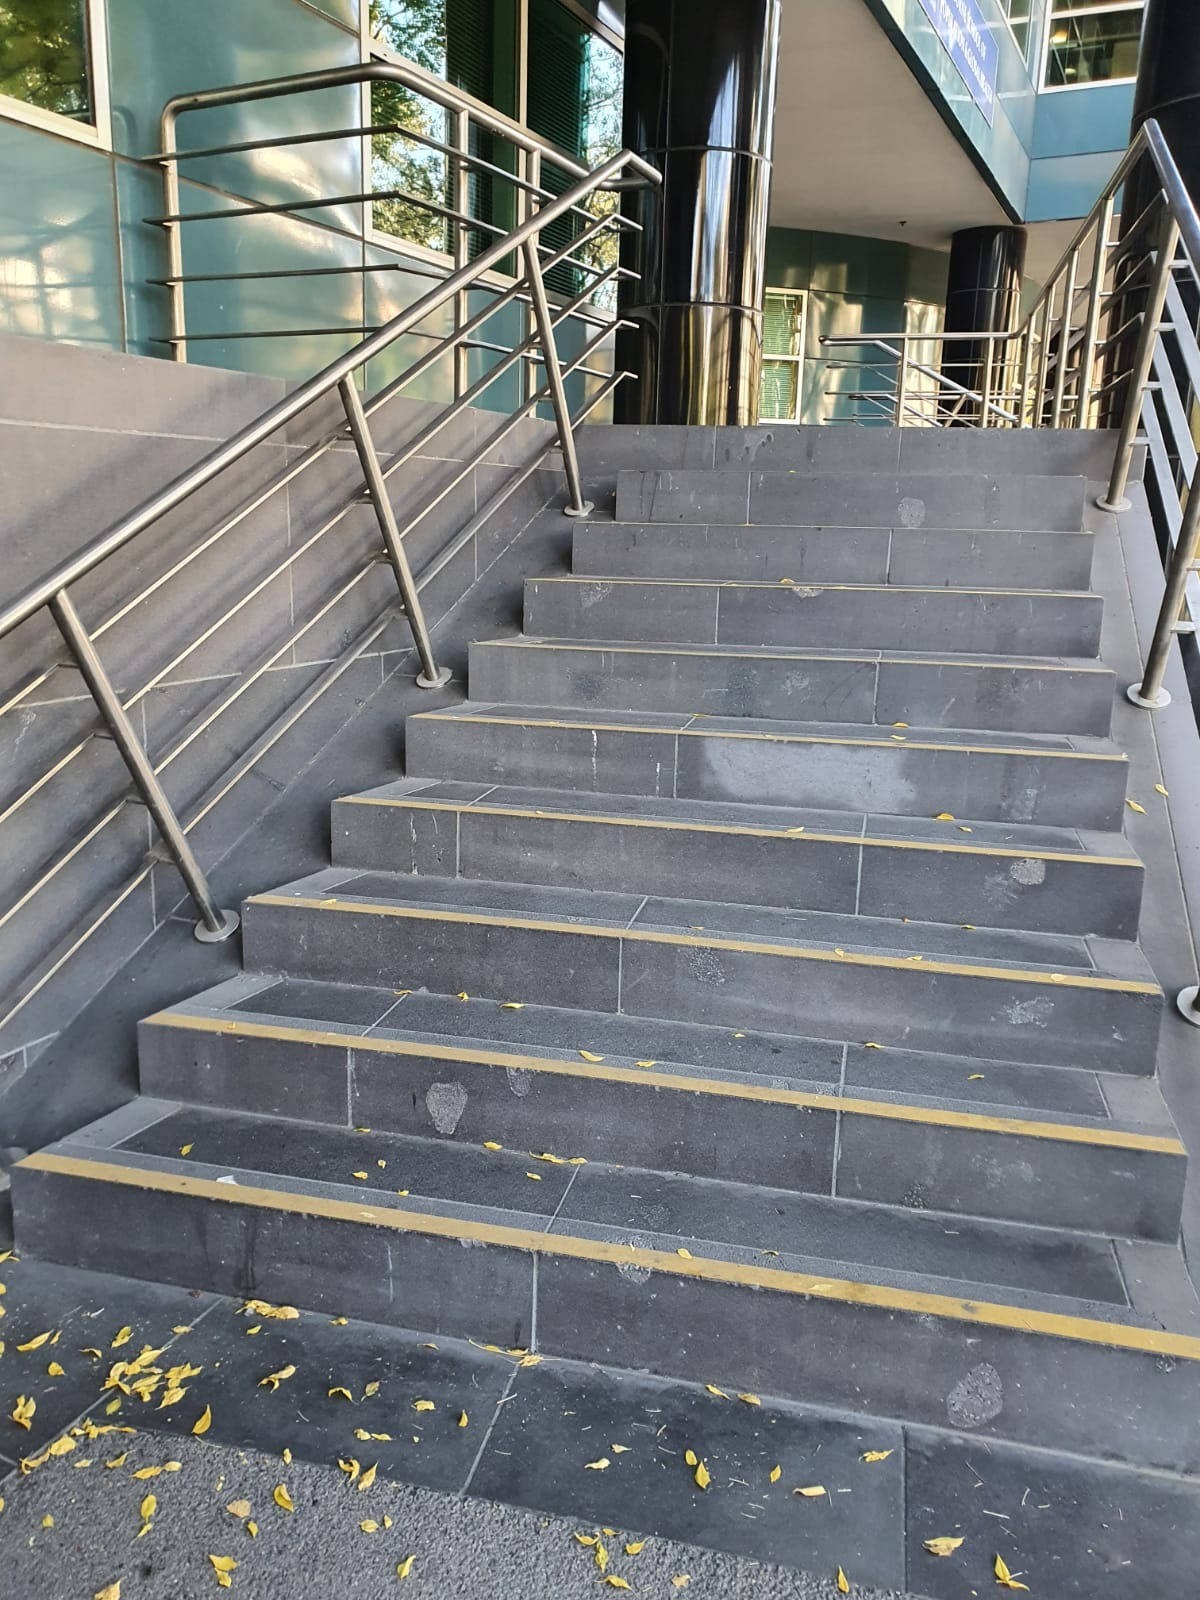upstairs: (323, 761, 1156, 1553)
